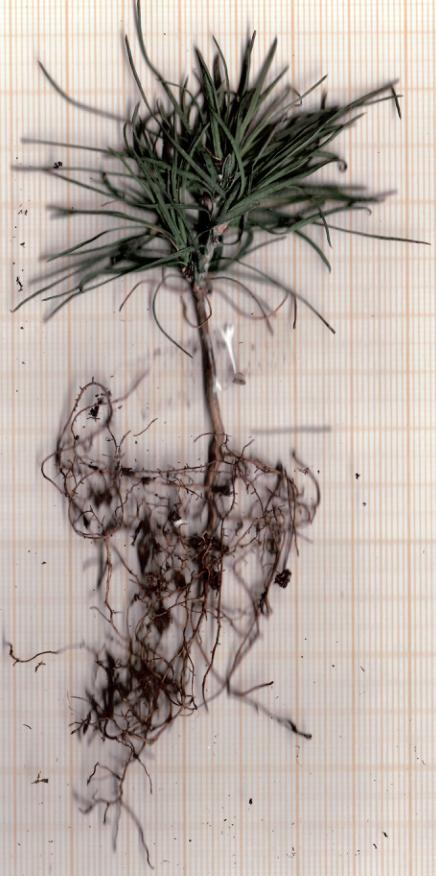flower: (17, 2, 411, 328)
root: (40, 378, 330, 860)
stem: (184, 293, 237, 439)
